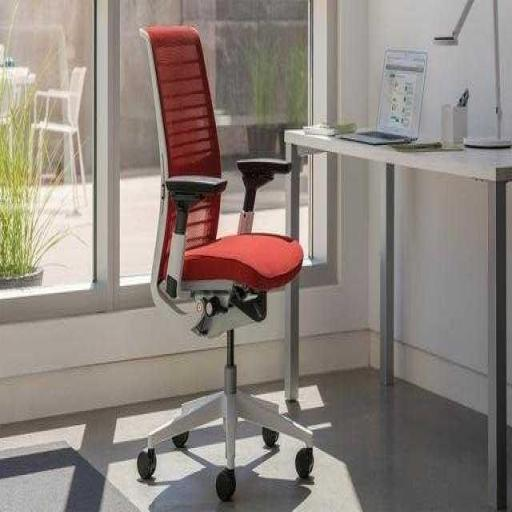chair: (135, 17, 320, 512)
